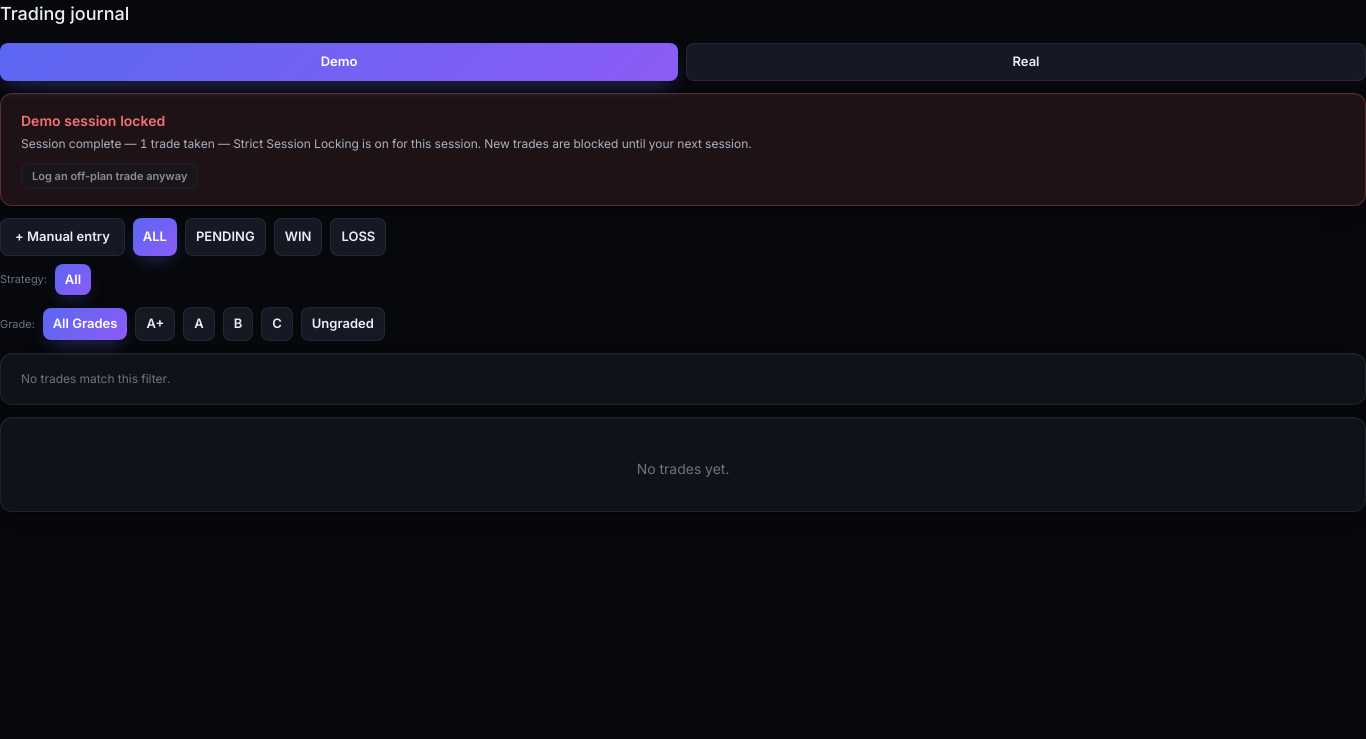
Test case: Strict Session Locking blocks the normal manual-entry button but offers an off-plan override
Expected: the button "+ Manual entry" is disabled, [0,218,125,256]
Click the button "Log an off-plan trade anyway". click: x=110, y=176
box: [21,162,198,189]
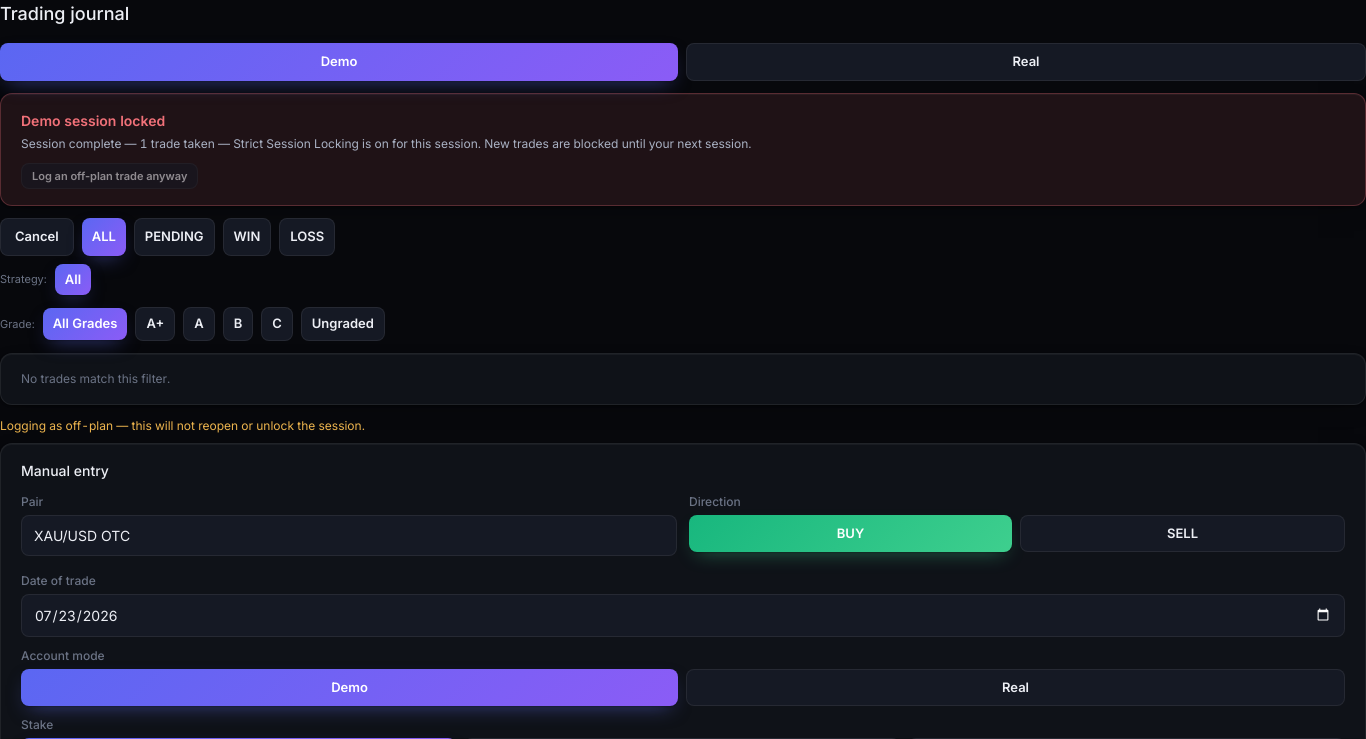
Expected: the text "Logging as off-plan" is shown, [0,418,365,432]
Expected: the field with placeholder "Type any pair, e.g. EUR/USD OTC" is shown, [21,514,677,556]
